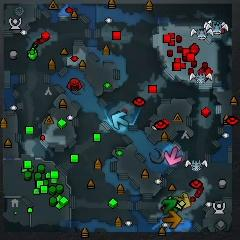x1: (164, 147, 182, 165)
x2: (174, 192, 191, 210)
x3: (112, 112, 128, 129)
x4: (161, 199, 177, 215)
x5: (163, 210, 181, 228)
